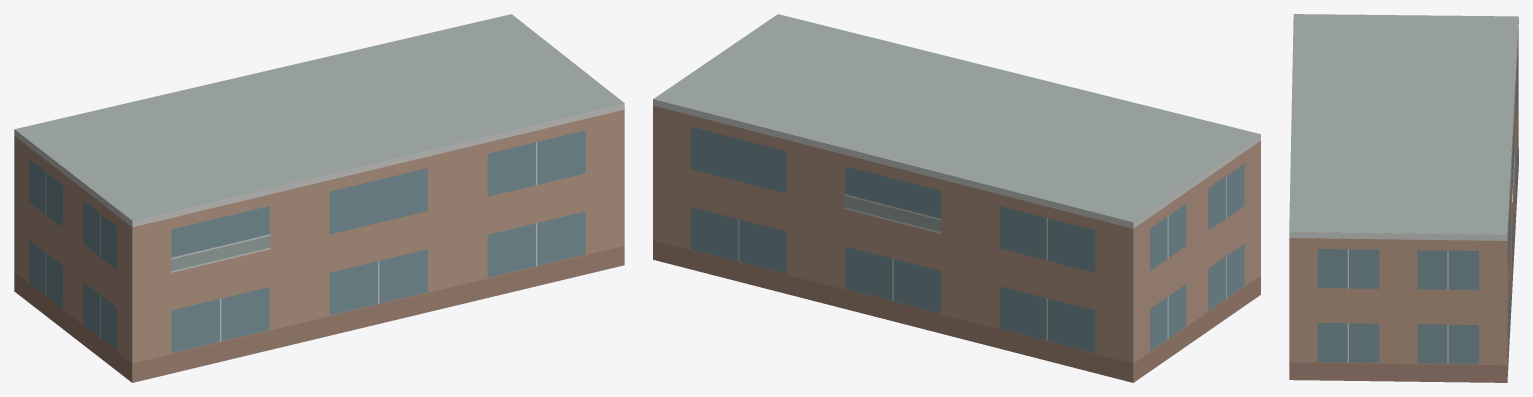
File: survey-upis-32564372.glb
The picture shows the model from 3 angles, left to right: view 1: azimuth 30°, elevation 25°; view 2: azimuth 150°, elevation 25°; view 3: azimuth 270°, elevation 25°; orthographic projection. The views are drawn at different scales.
Parts seen in each view (by area): view 1: survey-upis-32564372.tmp; view 2: survey-upis-32564372.tmp; view 3: survey-upis-32564372.tmp.
Boxes of the visible parts, left/top/right/bottom form: survey-upis-32564372.tmp: left=14, top=14, right=624, bottom=382; survey-upis-32564372.tmp: left=653, top=14, right=1260, bottom=382; survey-upis-32564372.tmp: left=1289, top=14, right=1518, bottom=382.
Bounding box in the file's own units: 19.56 × 6.1 × 8.59.
